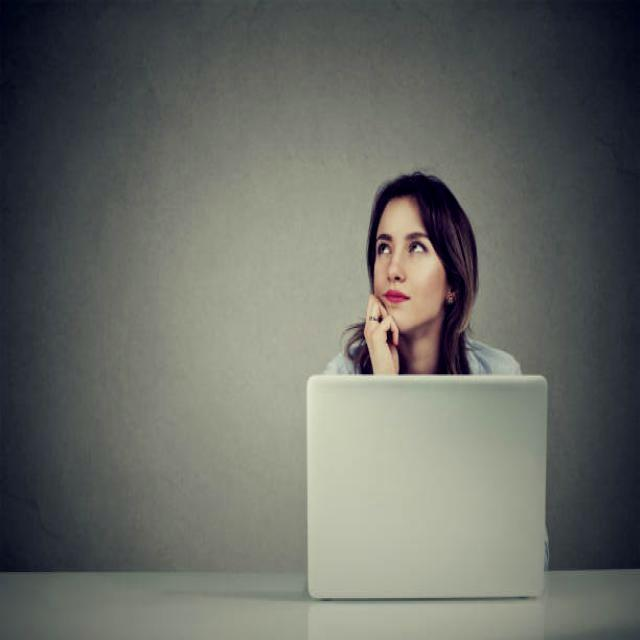Looking away: (372, 195, 450, 334)
